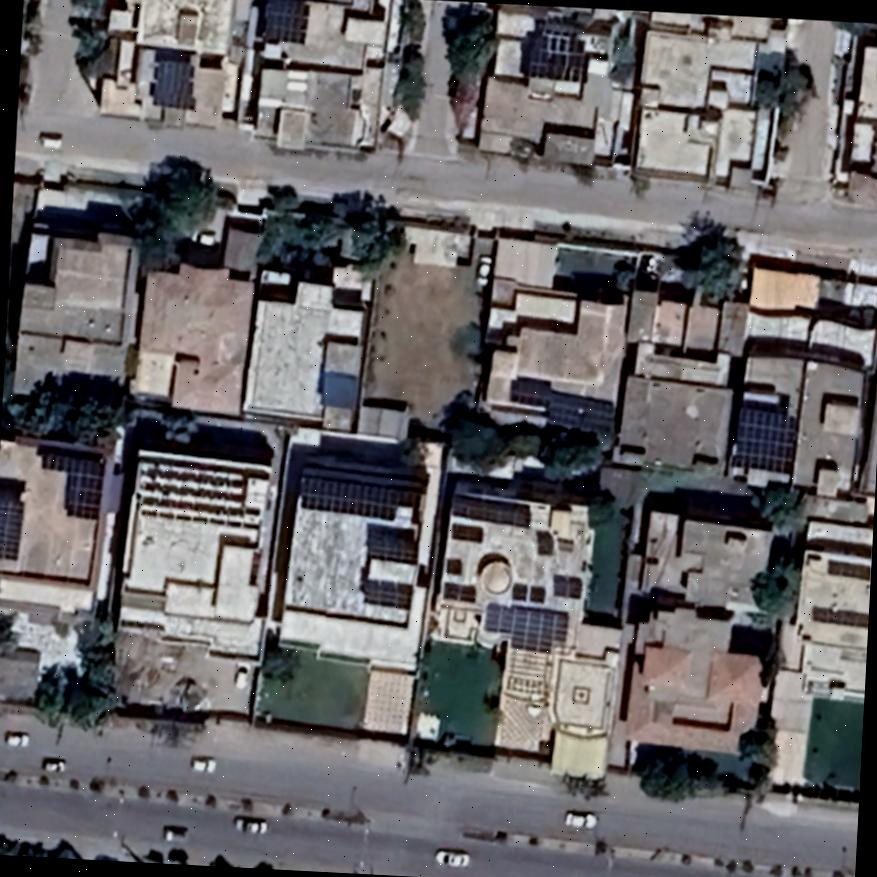Solarpanel: (298, 470, 429, 526), (730, 403, 805, 476), (32, 446, 102, 520), (480, 603, 571, 651), (520, 21, 587, 86), (362, 521, 419, 567), (147, 59, 196, 109), (260, 0, 314, 44), (359, 576, 420, 613), (0, 493, 28, 561), (449, 520, 482, 549), (440, 578, 477, 603), (509, 582, 545, 606), (554, 573, 583, 600), (533, 527, 554, 557), (443, 557, 463, 575)
